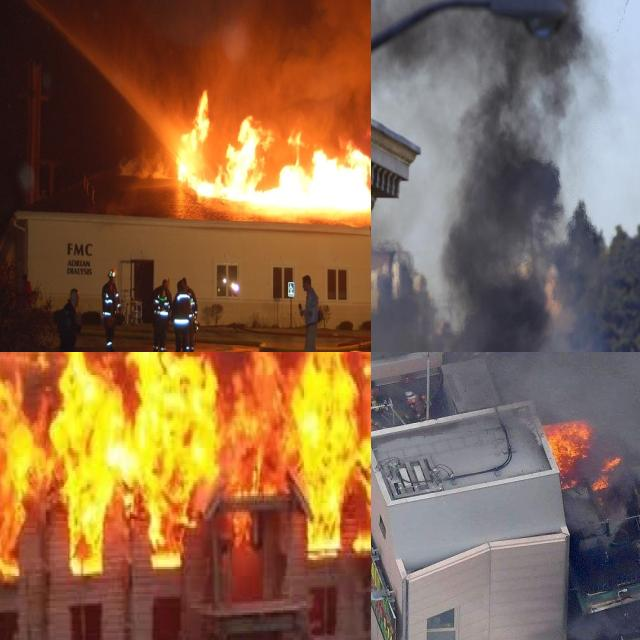fire: (0, 352, 371, 564), (173, 93, 371, 212), (540, 419, 615, 494)
smoke: (437, 0, 606, 352), (429, 352, 640, 459), (195, 0, 371, 124)
